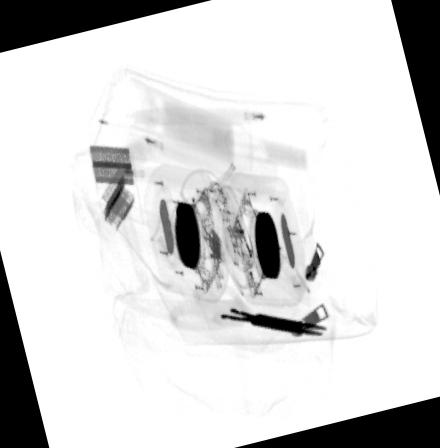Scissors: (169, 269, 327, 338)
